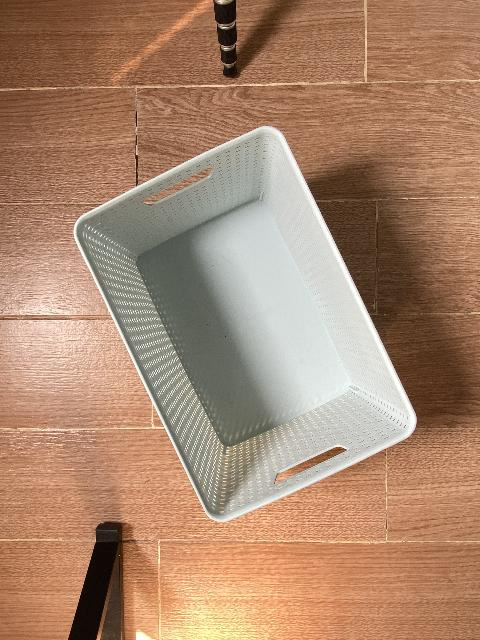cart: (72, 126, 418, 523)
